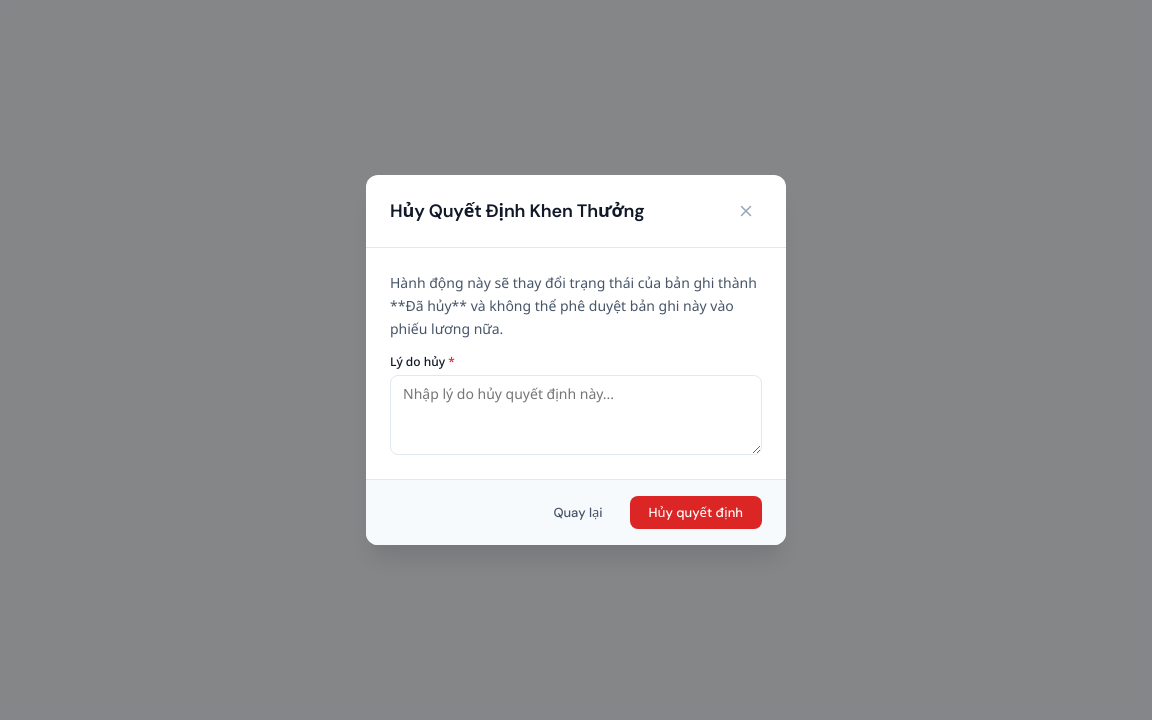
Scenario: CancelRecordDialog › validates empty reason is not allowed
The image size is (1152, 720).
Click the button "Hủy quyết định" at (696, 512), box [630,496,762,529]
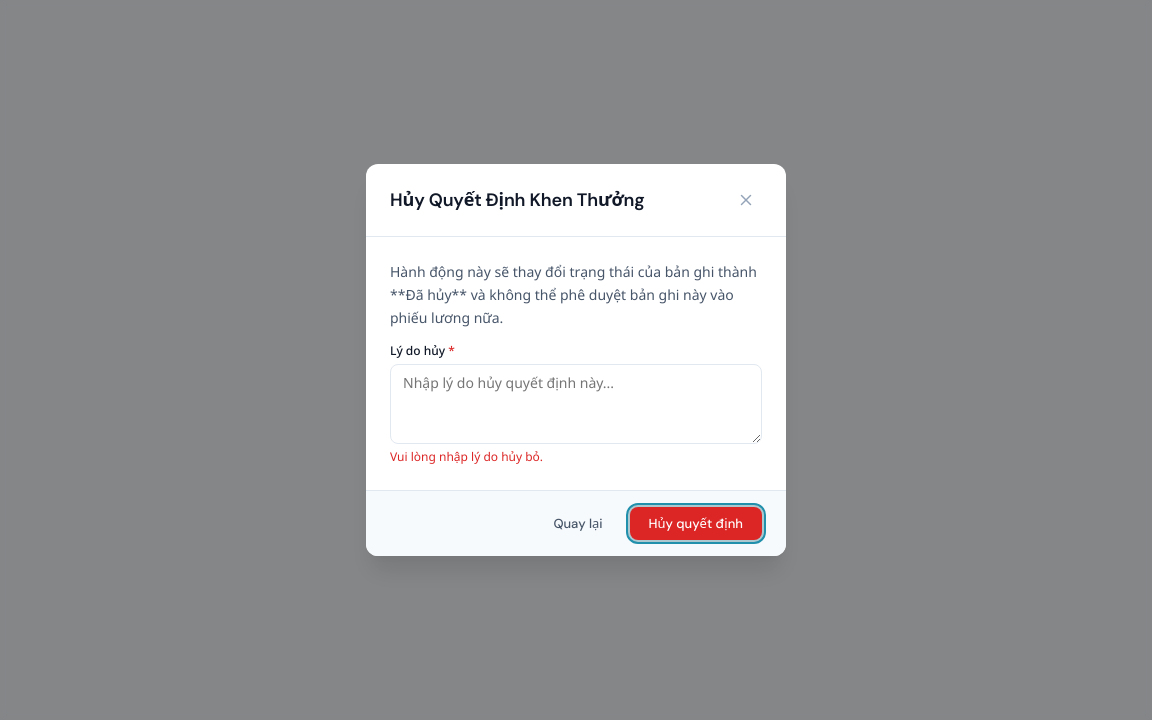
Check: the text "Vui lòng nhập lý do hủy bỏ." is shown, box [390,448,543,465]
